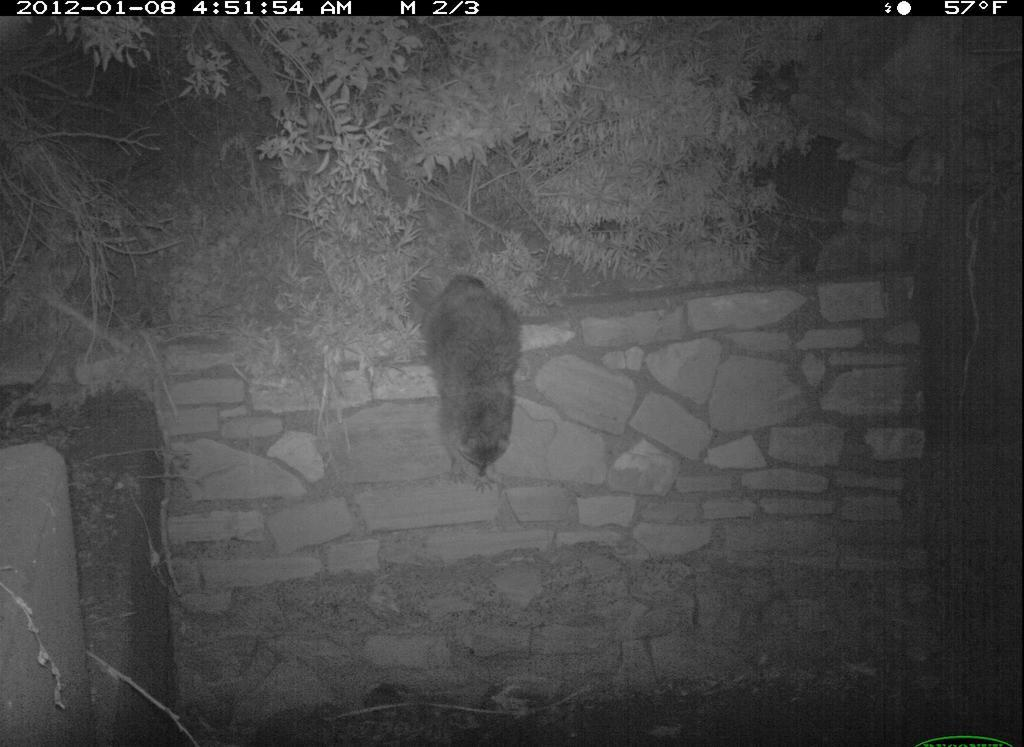raccoon: (401, 264, 532, 500)
